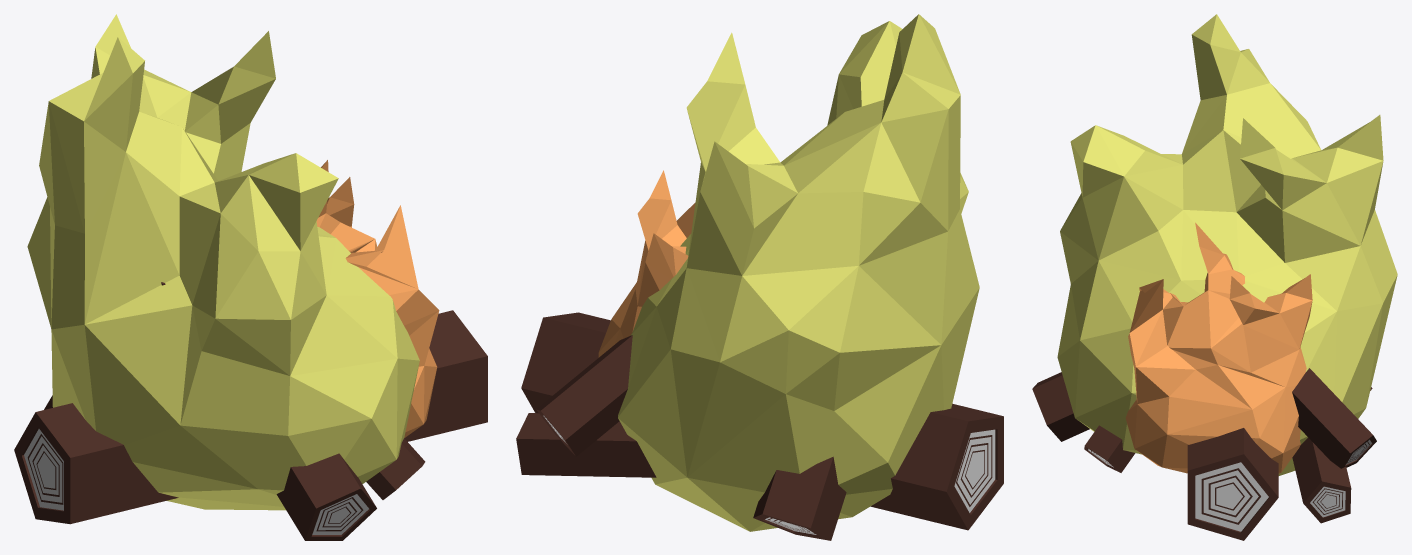
The model's file is fire _element.fbx.
The picture shows the model from 3 angles, left to right: view 1: azimuth 30°, elevation 25°; view 2: azimuth 150°, elevation 25°; view 3: azimuth 270°, elevation 25°; orthographic projection. The views are drawn at different scales.
Parts seen in each view (by area): view 1: fire, wood; view 2: fire, wood; view 3: fire, wood.
Part boxes in pixels (box(x1,y1,x2,y2)): fire: box(27, 14, 439, 510); wood: box(14, 282, 487, 540); fire: box(598, 14, 979, 531); wood: box(516, 312, 1003, 540); fire: box(1057, 14, 1397, 475); wood: box(1032, 368, 1376, 540).
Size of the model in its own units: 775 by 884 by 726.
